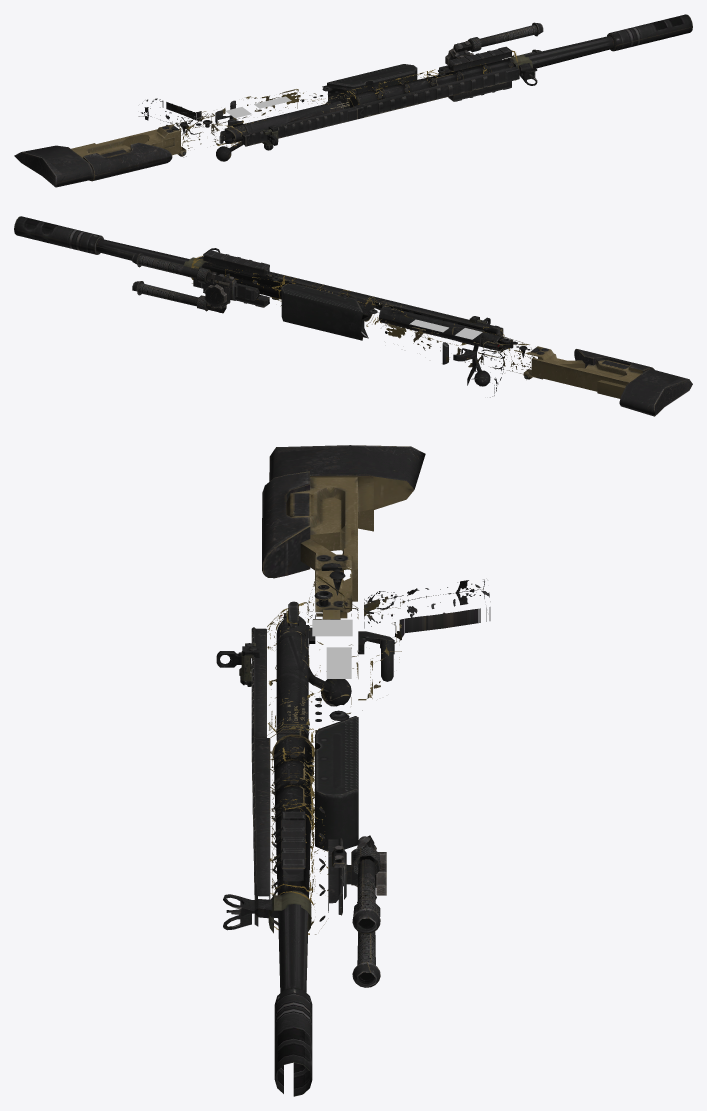
File: t6_wpn_sniper_ballista_view_LOD0.obj
The picture shows the model from 3 angles, top to bottom: view 1: azimuth 30°, elevation 25°; view 2: azimuth 150°, elevation 25°; view 3: azimuth 270°, elevation 25°; orthographic projection. The views are drawn at different scales.
Visible parts, largest first — view 1: mtl_t6_wpn_sniper_ballista_camo2, mtl_t6_wpn_sniper_ballista_camo1, mtl_t6_wpn_sniper_ballista_camo3, mtl_t6_wpn_sniper_ballista_sights; view 2: mtl_t6_wpn_sniper_ballista_camo1, mtl_t6_wpn_sniper_ballista_camo2, mtl_t6_wpn_sniper_ballista_camo3, mtl_t6_wpn_sniper_ballista_sights; view 3: mtl_t6_wpn_sniper_ballista_camo2, mtl_t6_wpn_sniper_ballista_camo1, mtl_t6_wpn_sniper_ballista_camo3, mtl_t6_wpn_sniper_ballista_sights.
Part boxes in pixels (x1,y1,x2,y2): mtl_t6_wpn_sniper_ballista_camo2: (14, 14, 692, 187); mtl_t6_wpn_sniper_ballista_camo1: (73, 22, 543, 157); mtl_t6_wpn_sniper_ballista_camo3: (71, 37, 517, 161); mtl_t6_wpn_sniper_ballista_sights: (262, 54, 537, 150); mtl_t6_wpn_sniper_ballista_camo1: (132, 252, 641, 398); mtl_t6_wpn_sniper_ballista_camo2: (14, 216, 692, 416); mtl_t6_wpn_sniper_ballista_camo3: (193, 250, 625, 387); mtl_t6_wpn_sniper_ballista_sights: (183, 248, 490, 324); mtl_t6_wpn_sniper_ballista_camo2: (262, 445, 490, 1096); mtl_t6_wpn_sniper_ballista_camo1: (251, 477, 490, 987); mtl_t6_wpn_sniper_ballista_camo3: (251, 482, 400, 929); mtl_t6_wpn_sniper_ballista_sights: (216, 643, 311, 933).
Size of the model in its own units: 120 by 9.74 by 22.27.
